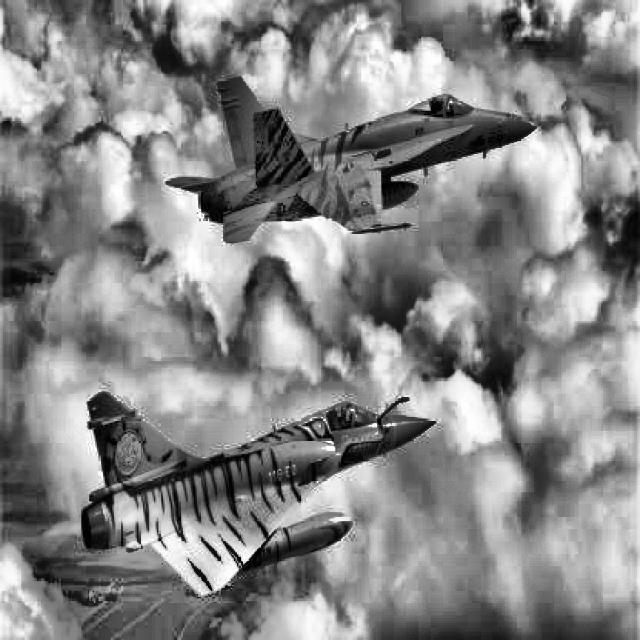F18: (166, 76, 536, 244)
Mirage2000: (81, 392, 437, 597)
